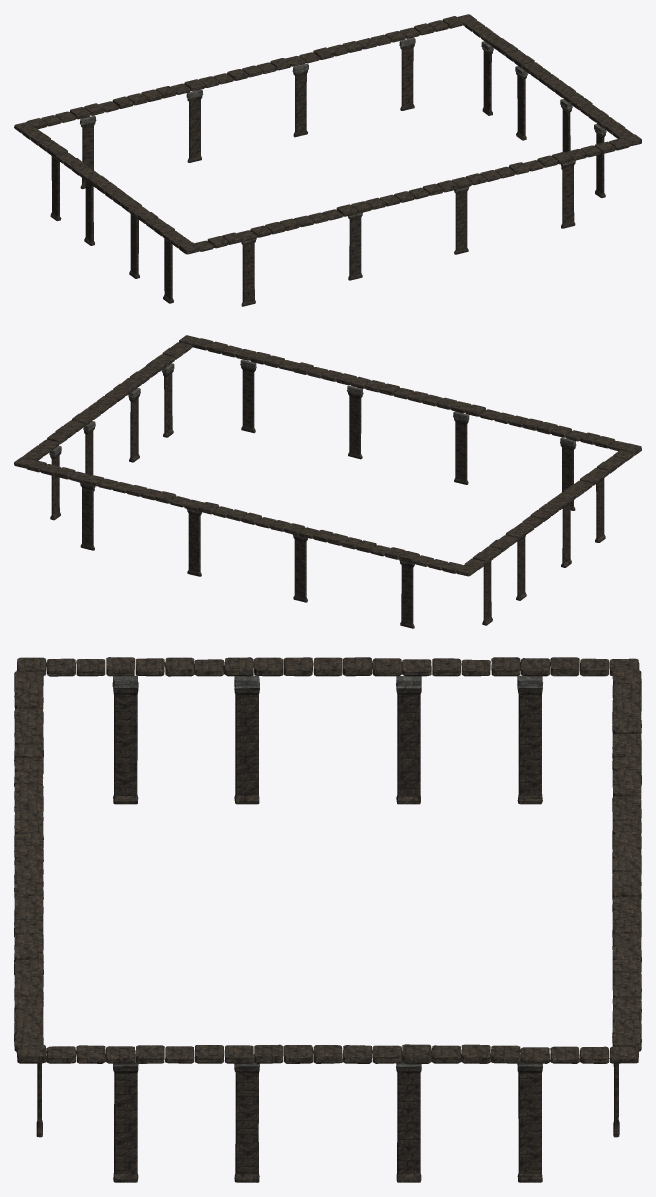
Rendered from training_ruin_wall.glb.
3 views of the same model, one above another, from view 1: azimuth 30°, elevation 25°; view 2: azimuth 150°, elevation 25°; view 3: azimuth 270°, elevation 25° (orthographic). The views are drawn at different scales.
Parts seen in each view (by area): view 1: Training Ruin Wall Mesh; view 2: Training Ruin Wall Mesh; view 3: Training Ruin Wall Mesh.
Boxes of the visible parts, bbox=[...] form: Training Ruin Wall Mesh: bbox=[14, 14, 641, 306]; Training Ruin Wall Mesh: bbox=[14, 335, 641, 628]; Training Ruin Wall Mesh: bbox=[14, 657, 641, 1182].
Bounding box in the file's own units: 29.72 × 4.68 × 19.72.
3 materials, 3 textured.
